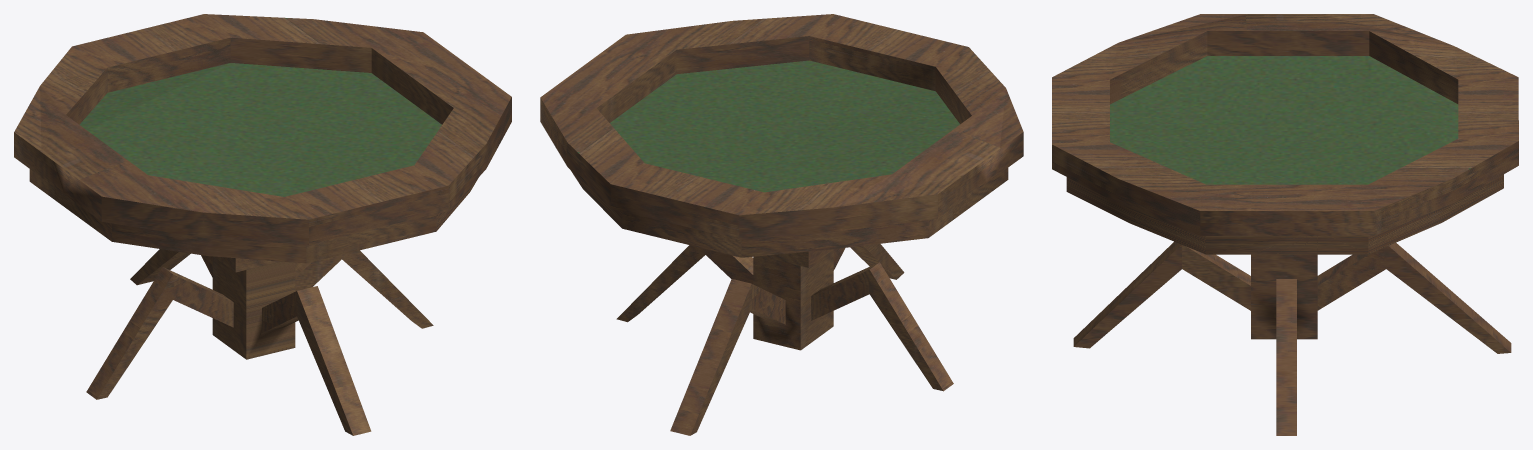
The model's file is table.gltf.
3 views of the same model, side by side, from view 1: azimuth 30°, elevation 25°; view 2: azimuth 150°, elevation 25°; view 3: azimuth 270°, elevation 25° (orthographic). The views are drawn at different scales.
Visible parts, largest first — view 1: pCube1; view 2: pCube1; view 3: pCube1.
Boxes of the visible parts, bbox=[...] form: pCube1: bbox=[14, 14, 511, 435]; pCube1: bbox=[540, 14, 1023, 435]; pCube1: bbox=[1052, 14, 1518, 435].
Size of the model in its own units: 4.26 by 2.53 by 4.27.
1 material, 1 textured.
